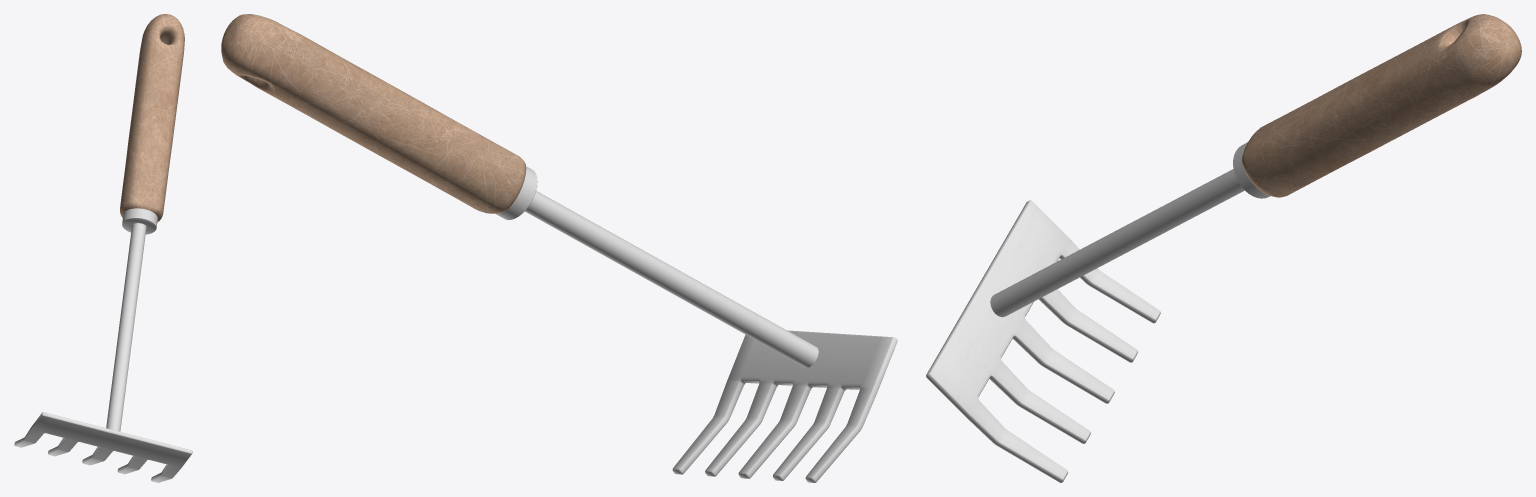
Rendered from asset3.glb.
3 views of the same model, side by side, from view 1: azimuth 30°, elevation 25°; view 2: azimuth 150°, elevation 25°; view 3: azimuth 270°, elevation 25° (orthographic). The views are drawn at different scales.
Parts seen in each view (by area): view 1: HandRake; view 2: HandRake; view 3: HandRake.
Part boxes in pixels (left/top/right/bottom): HandRake: left=14, top=14, right=192, bottom=482; HandRake: left=221, top=14, right=897, bottom=482; HandRake: left=926, top=14, right=1521, bottom=482.
Bounding box in the file's own units: 0.1989 × 0.236 × 0.222.
Materials: 1 (1 with a texture image).
